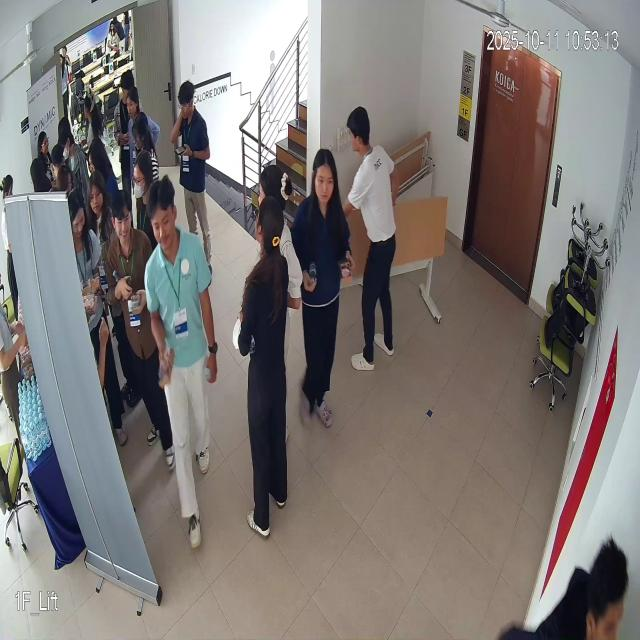face: (144, 181, 183, 258), (306, 145, 341, 216), (108, 190, 139, 252)
